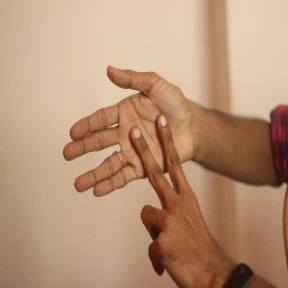N: (57, 63, 211, 245)
